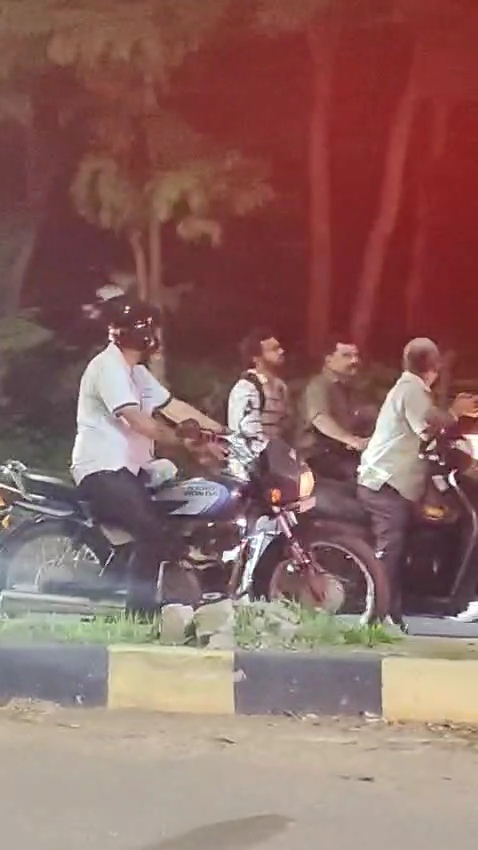BikeWithRider: (0, 289, 387, 658)
Helmet: (96, 292, 171, 363)
